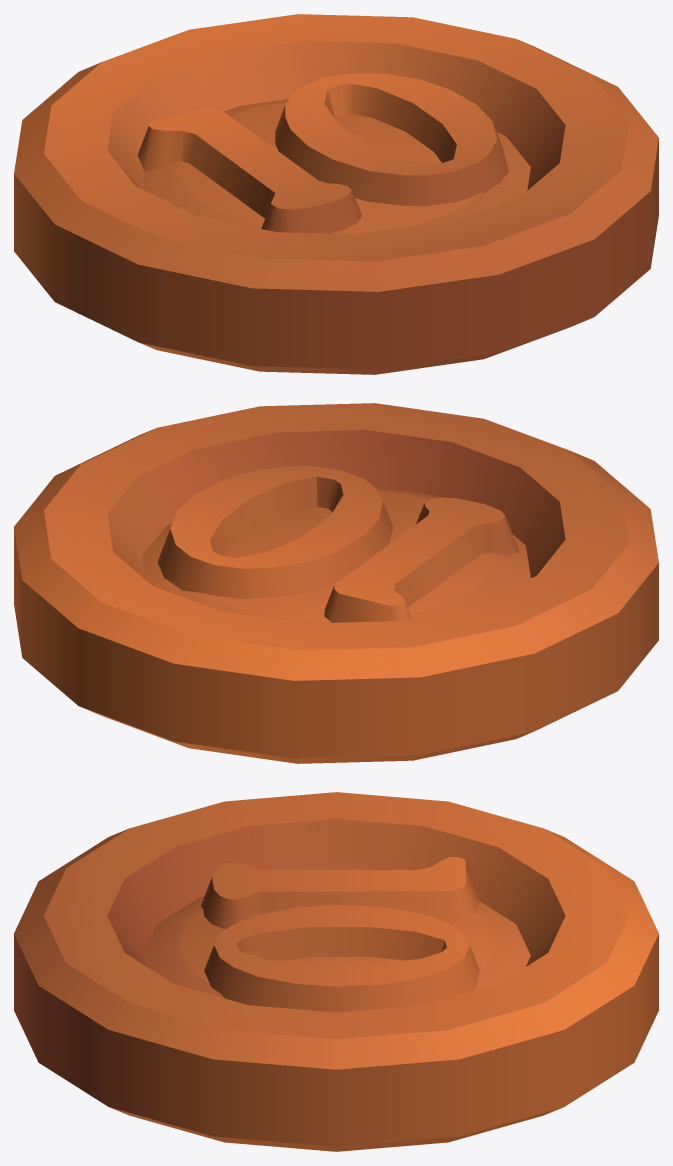
File: coin_10_copper.obj
3 views of the same model, one above another, from view 1: azimuth 30°, elevation 25°; view 2: azimuth 150°, elevation 25°; view 3: azimuth 270°, elevation 25° (orthographic).
Visible parts, largest first — view 1: coin_10_copper; view 2: coin_10_copper; view 3: coin_10_copper.
Part boxes in pixels (x1,y1,x2,y2): coin_10_copper: [14, 14, 658, 374]; coin_10_copper: [14, 403, 658, 763]; coin_10_copper: [14, 792, 658, 1151].
Size of the model in its own units: 1.04 by 0.2 by 1.04.
Materials: 1 (1 with a texture image).
